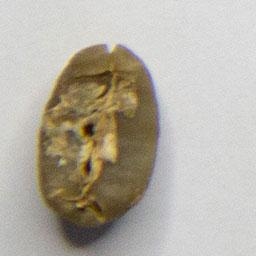premium: (32, 41, 163, 232)
